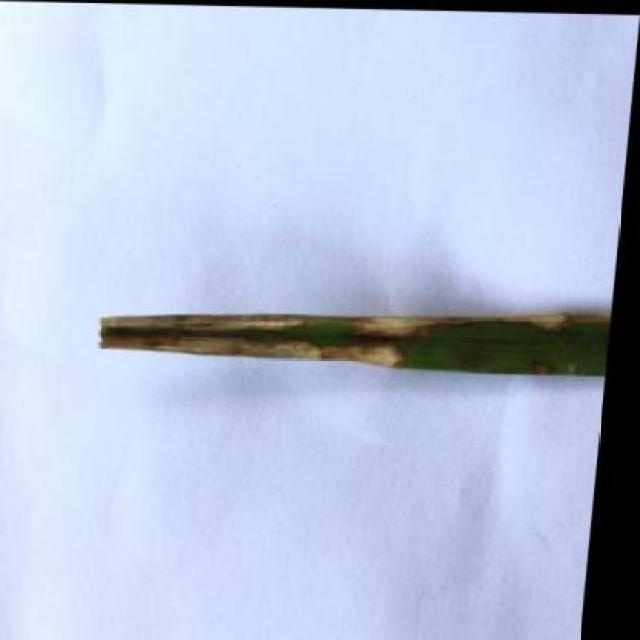Brown_Spot: (92, 291, 618, 384)
